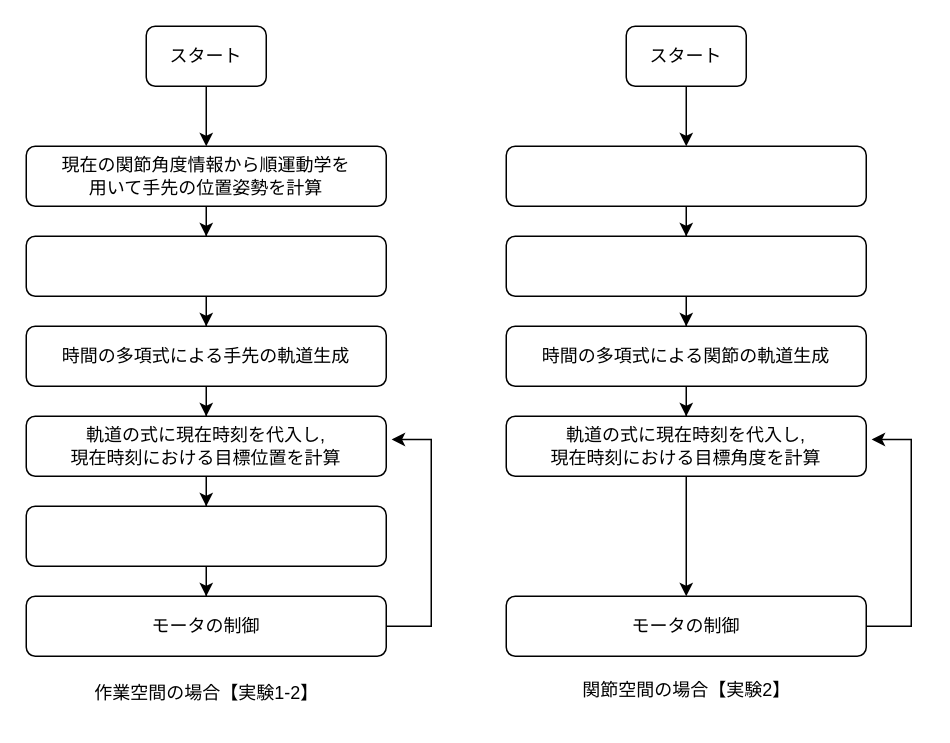
Image size: 950x743. Some labels were removed from this diagram. The box of each missing label's shape, as (x1, y1, x2, y2) in pixels:
手先の目標位置姿勢から, 逆運動学で目標関節角度を計算: (505, 235, 866, 296)
現在の関節角度情報の取得: (505, 145, 866, 206)
現在位置と目標位置を直線で結ぶ 直線経路を生成: (25, 235, 386, 296)
逆運動学による関節軌道を計算: (25, 505, 386, 566)
